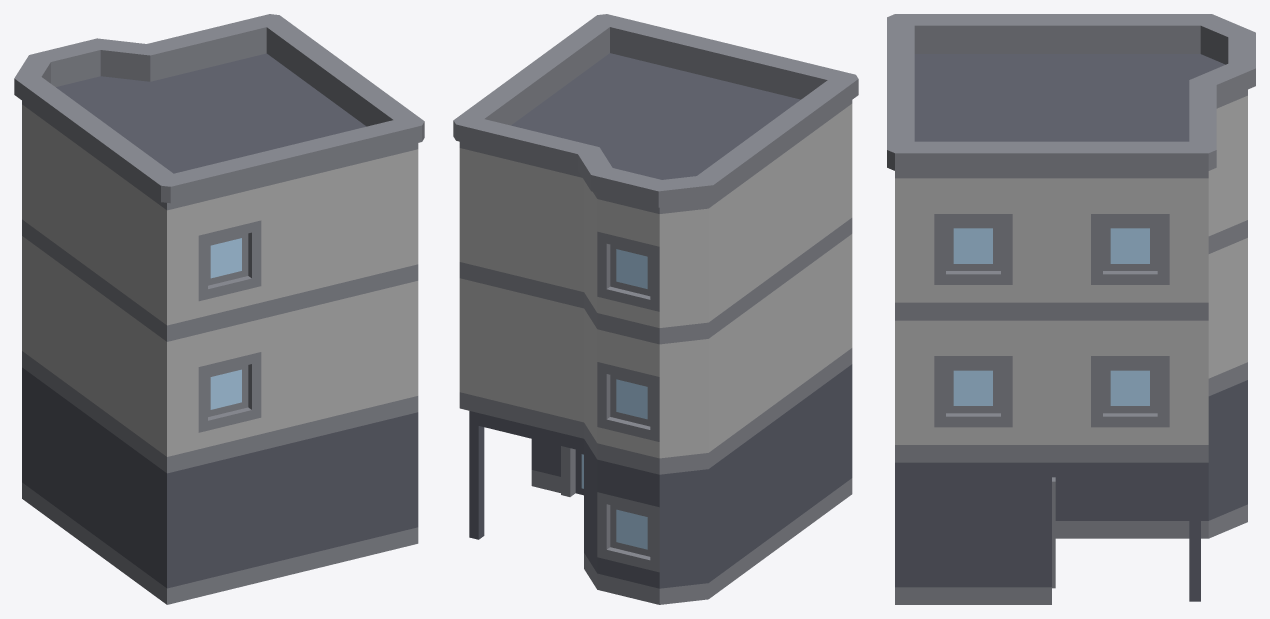
Rendered from small_buildingC.dae.
3 views of the same model, side by side, from view 1: azimuth 30°, elevation 25°; view 2: azimuth 150°, elevation 25°; view 3: azimuth 270°, elevation 25° (orthographic). The views are drawn at different scales.
Visible parts, largest first — view 1: small_buildingC; view 2: small_buildingC; view 3: small_buildingC.
Part boxes in pixels (left/top/right/bottom): small_buildingC: left=14, top=14, right=424, bottom=604; small_buildingC: left=453, top=14, right=858, bottom=604; small_buildingC: left=887, top=14, right=1255, bottom=604.
Bounding box in the file's own units: 0.84 × 1.28 × 0.94.
